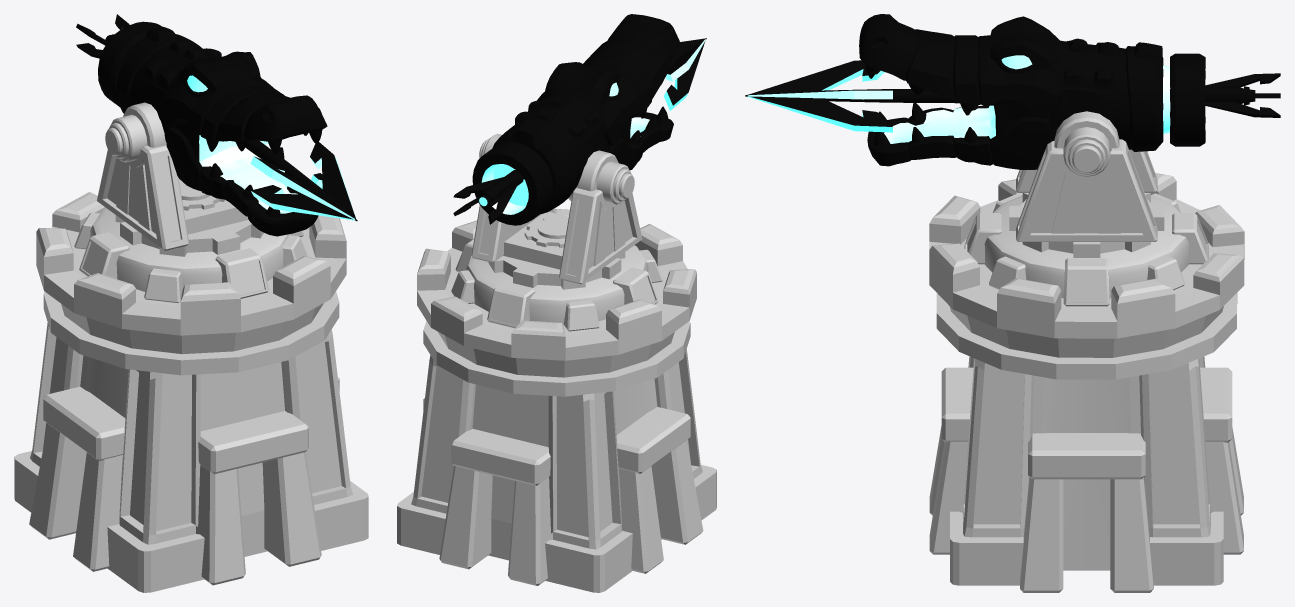
File: MyTower_Harpoon_1.fbx
3 renders of one model, left to right at view 1: azimuth 30°, elevation 25°; view 2: azimuth 150°, elevation 25°; view 3: azimuth 270°, elevation 25°, orthographic. The views are drawn at different scales.
Parts seen in each view (by area): view 1: LV1, harpoon, base, stand, MyProjectile_Harpoon; view 2: LV1, harpoon, base, stand, MyProjectile_Harpoon; view 3: LV1, harpoon, base, stand, MyProjectile_Harpoon.
Part boxes in pixels (box(x1,y1,x2,y2)): LV1: box(14, 192, 368, 592); harpoon: box(98, 21, 327, 236); base: box(97, 102, 263, 256); stand: box(74, 207, 307, 302); MyProjectile_Harpoon: box(76, 14, 357, 221); LV1: box(397, 208, 716, 592); harpoon: box(472, 14, 679, 225); base: box(471, 133, 642, 289); stand: box(451, 238, 662, 331); MyProjectile_Harpoon: box(453, 38, 706, 224); LV1: box(929, 173, 1244, 592); harpoon: box(859, 14, 1205, 169); base: box(1009, 111, 1164, 257); stand: box(964, 193, 1208, 306); MyProjectile_Harpoon: box(745, 60, 1280, 132).
Bounding box in the file's own units: 0.7277 × 1.29 × 1.24.
